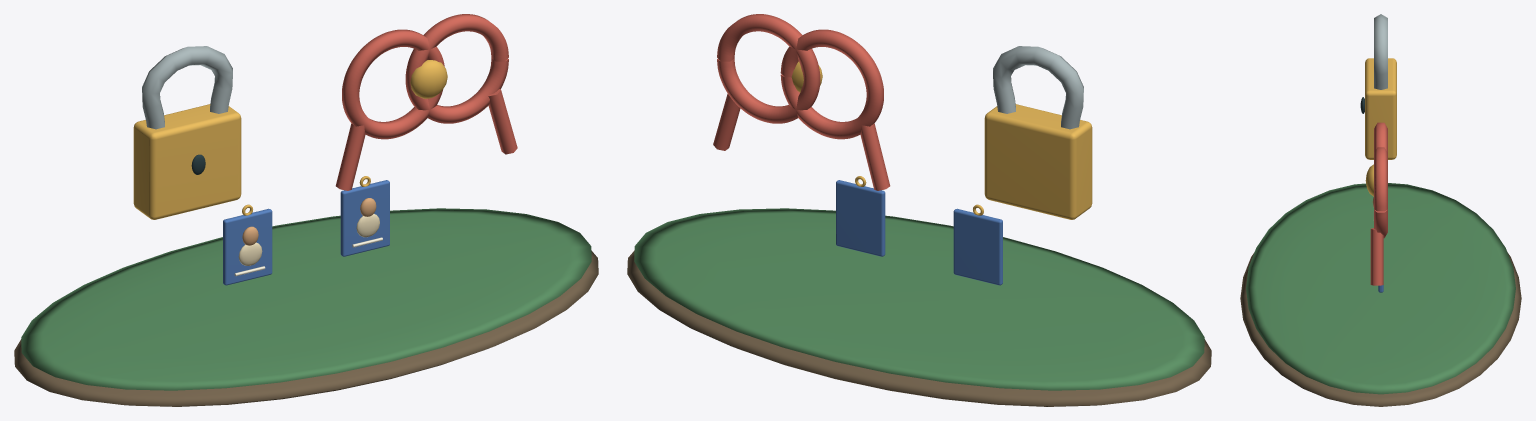
Rendered from complete-first-closed-tied-link.glb.
3 renders of one model, left to right at view 1: azimuth 30°, elevation 25°; view 2: azimuth 150°, elevation 25°; view 3: azimuth 270°, elevation 25°, orthographic. The views are drawn at different scales.
Visible parts, largest first — view 1: complete-first-closed-tied-link_surface_01, complete-first-closed-tied-link_surface_02, complete-first-closed-tied-link_surface_00, complete-first-closed-tied-link_surface_05, complete-first-closed-tied-link_surface_06, complete-first-closed-tied-link_surface_03, complete-first-closed-tied-link_surface_08; view 2: complete-first-closed-tied-link_surface_01, complete-first-closed-tied-link_surface_05, complete-first-closed-tied-link_surface_02, complete-first-closed-tied-link_surface_00, complete-first-closed-tied-link_surface_06, complete-first-closed-tied-link_surface_03; view 3: complete-first-closed-tied-link_surface_01, complete-first-closed-tied-link_surface_00, complete-first-closed-tied-link_surface_02, complete-first-closed-tied-link_surface_05, complete-first-closed-tied-link_surface_03.
Boxes of the visible parts, <box> form: complete-first-closed-tied-link_surface_01: <box>21,208,591,390</box>; complete-first-closed-tied-link_surface_02: <box>133,60,447,219</box>; complete-first-closed-tied-link_surface_00: <box>14,250,598,406</box>; complete-first-closed-tied-link_surface_05: <box>335,14,517,190</box>; complete-first-closed-tied-link_surface_06: <box>223,180,389,285</box>; complete-first-closed-tied-link_surface_03: <box>142,46,232,129</box>; complete-first-closed-tied-link_surface_08: <box>238,214,379,265</box>; complete-first-closed-tied-link_surface_01: <box>634,208,1204,390</box>; complete-first-closed-tied-link_surface_05: <box>713,14,890,190</box>; complete-first-closed-tied-link_surface_02: <box>791,61,1092,219</box>; complete-first-closed-tied-link_surface_00: <box>627,250,1211,406</box>; complete-first-closed-tied-link_surface_06: <box>836,180,1002,285</box>; complete-first-closed-tied-link_surface_03: <box>993,46,1083,129</box>; complete-first-closed-tied-link_surface_01: <box>1246,183,1515,394</box>; complete-first-closed-tied-link_surface_00: <box>1240,252,1521,406</box>; complete-first-closed-tied-link_surface_02: <box>1365,58,1396,196</box>; complete-first-closed-tied-link_surface_05: <box>1370,122,1387,285</box>; complete-first-closed-tied-link_surface_03: <box>1374,14,1387,89</box>.
Bounding box in the file's own units: 4.56 × 2.42 × 2.5.
